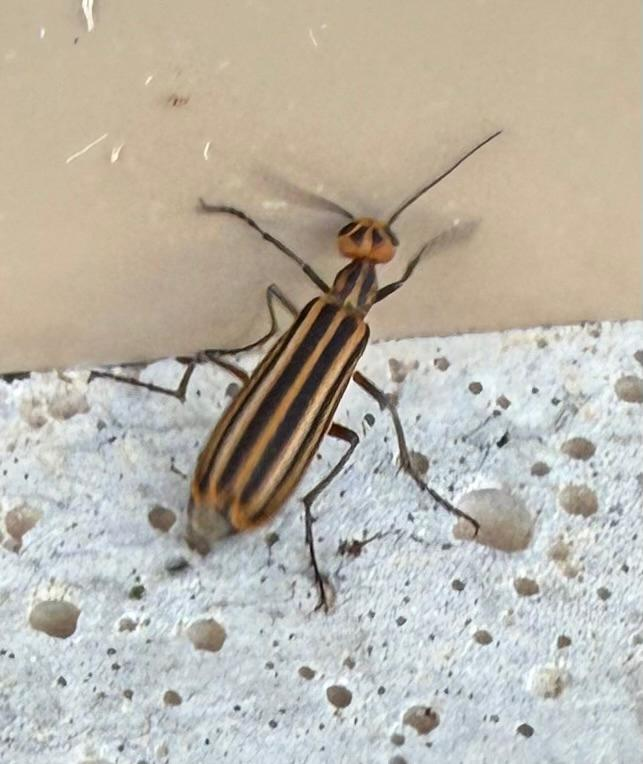blister_beetle: (63, 78, 559, 651)
